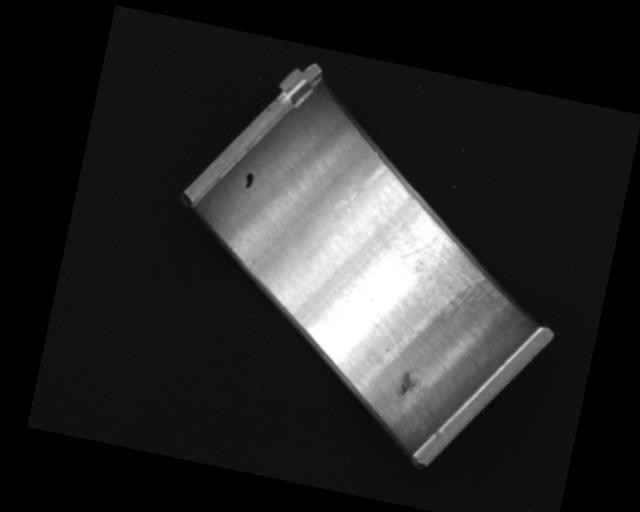blot: (242, 170, 256, 191)
bruise: (396, 366, 419, 398)
nick: (330, 156, 388, 232)
scratch: (372, 210, 521, 331)
